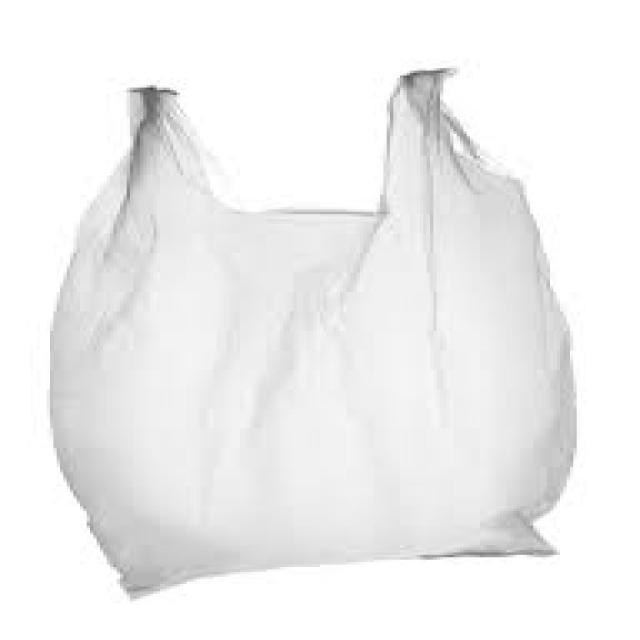Bolsa-de-plastico: (58, 83, 585, 582)
